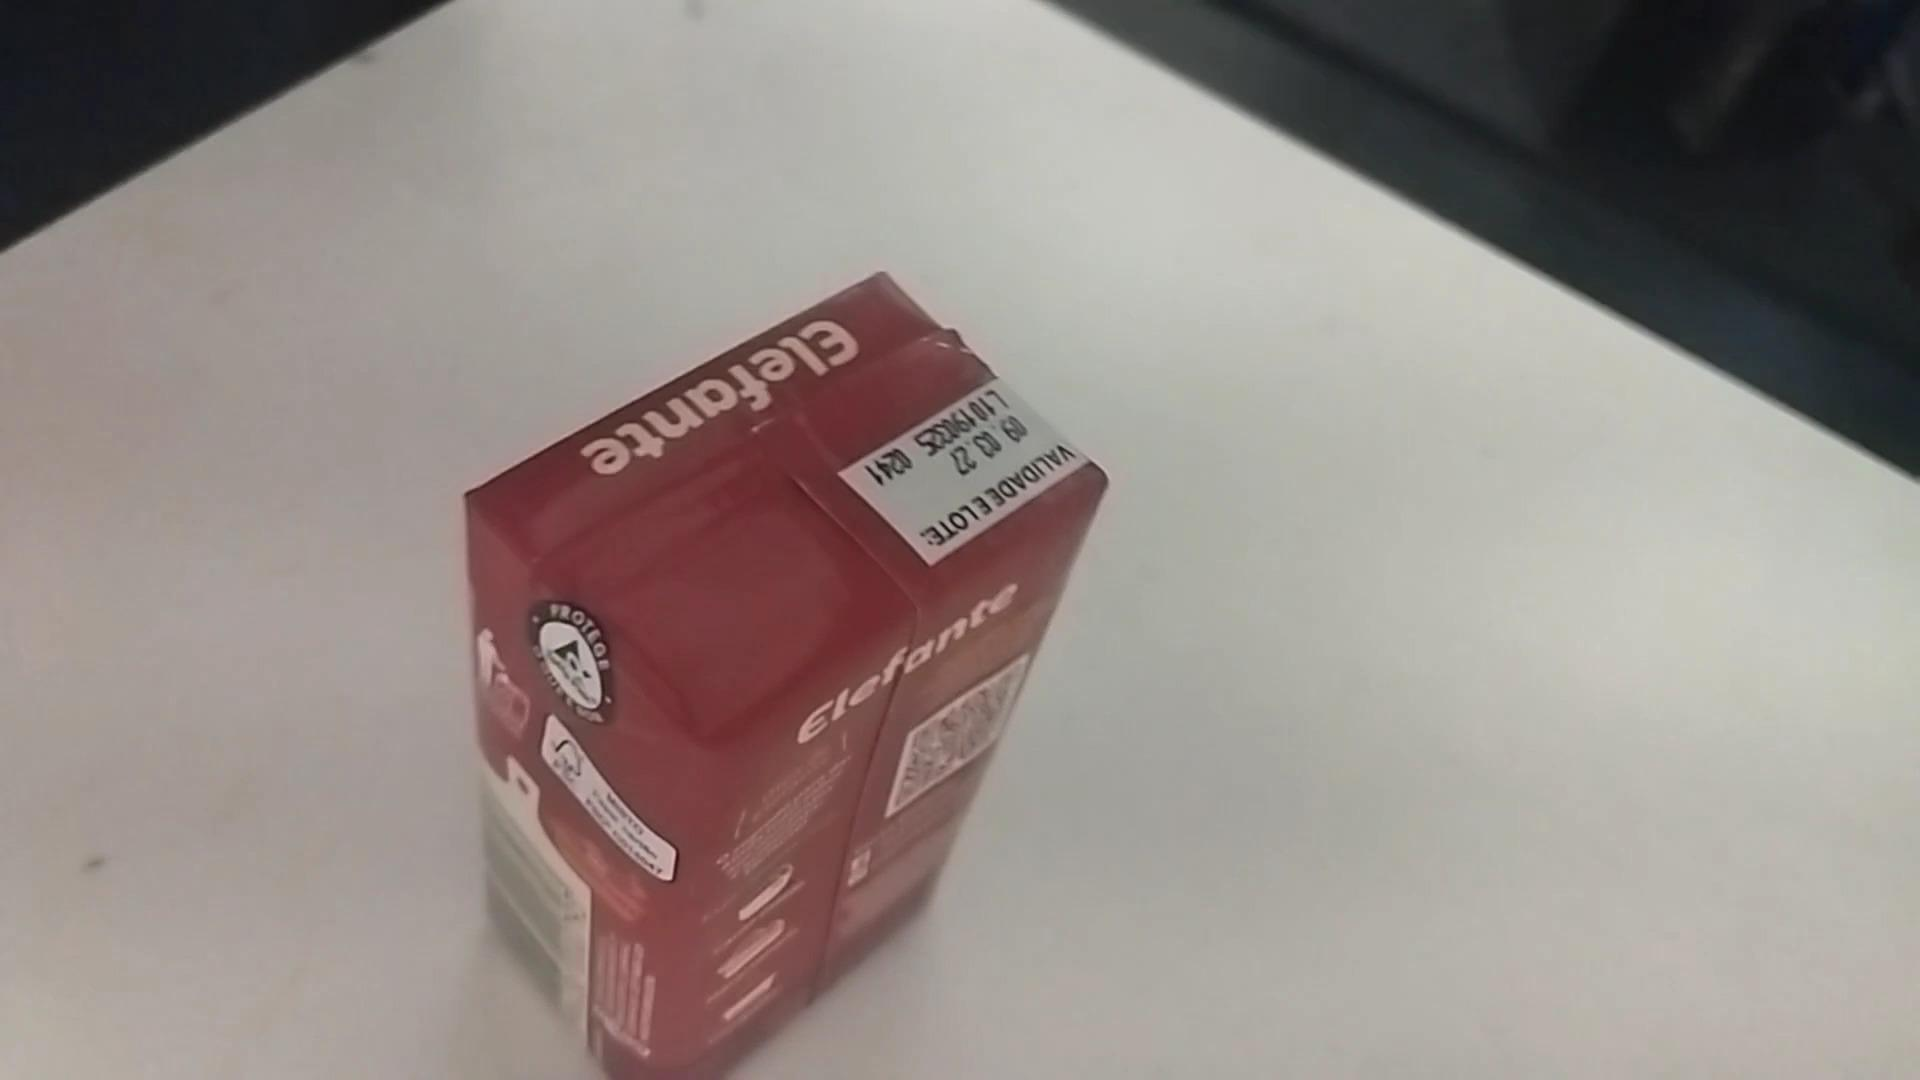tomate: (421, 228, 1188, 1067)
